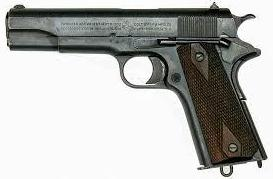gun: (1, 1, 273, 179)
